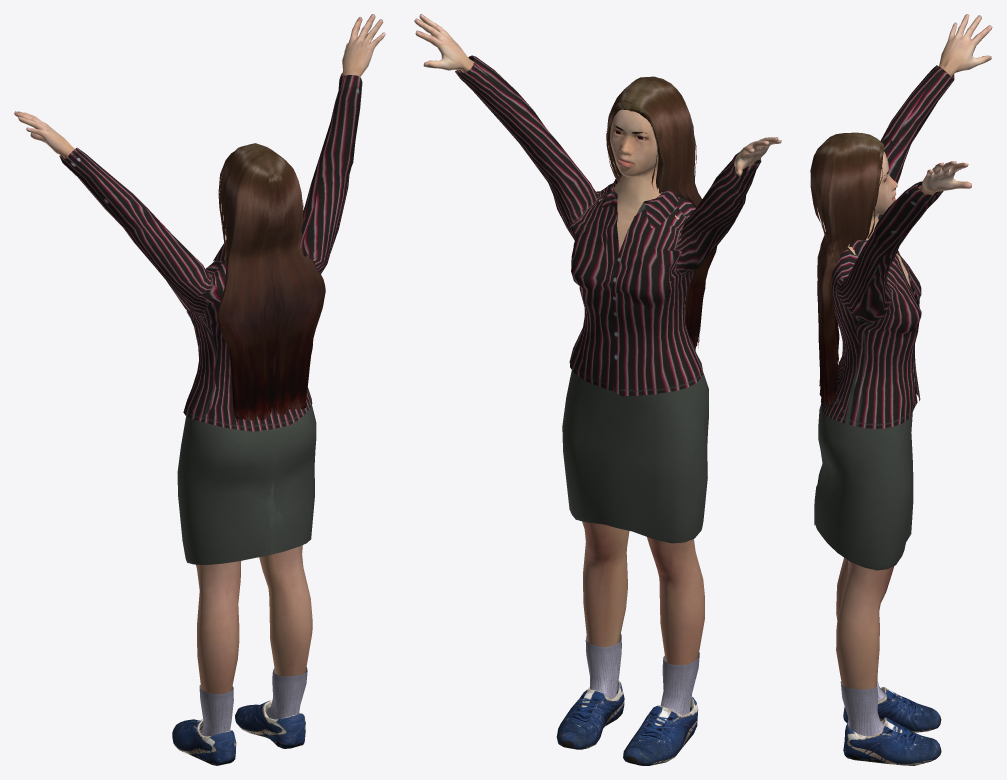
File: cheering_1.gltf
3 renders of one model, left to right at view 1: azimuth 30°, elevation 25°; view 2: azimuth 150°, elevation 25°; view 3: azimuth 270°, elevation 25°, orthographic. The views are drawn at different scales.
Parts seen in each view (by area): view 1: cheering; view 2: cheering; view 3: cheering.
Boxes of the visible parts, box(x1,y1,x2,y2) form: cheering: box(14, 14, 385, 765); cheering: box(414, 14, 781, 765); cheering: box(810, 14, 992, 765).
Bounding box in the file's own units: 1 × 1.81 × 0.4517.
6 materials, 6 textured.
